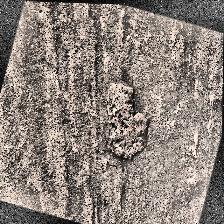pothole: (91, 77, 163, 164)
